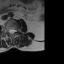CCS_normal: (11, 26, 13, 36)
LFS_normal: (15, 27, 17, 34)
LLS_normal: (13, 27, 15, 35)
RFS_normal: (7, 27, 9, 34)
RLS_normal: (9, 27, 11, 35)
